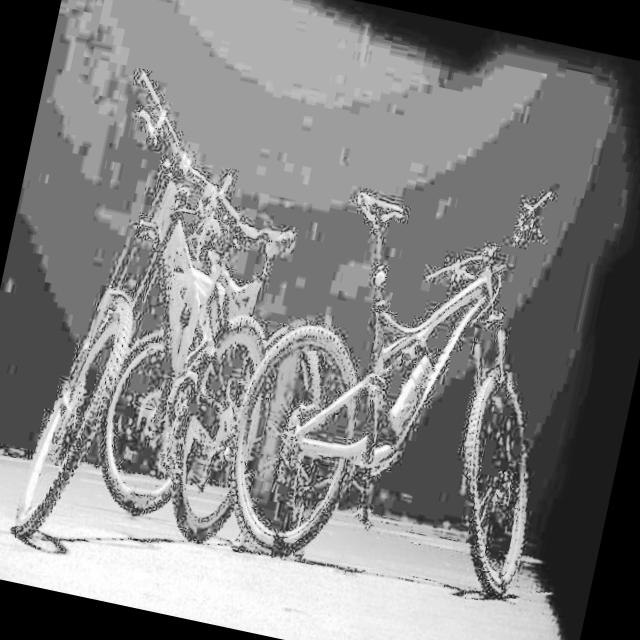Bicycle: (0, 11, 341, 602), (198, 130, 569, 604)
